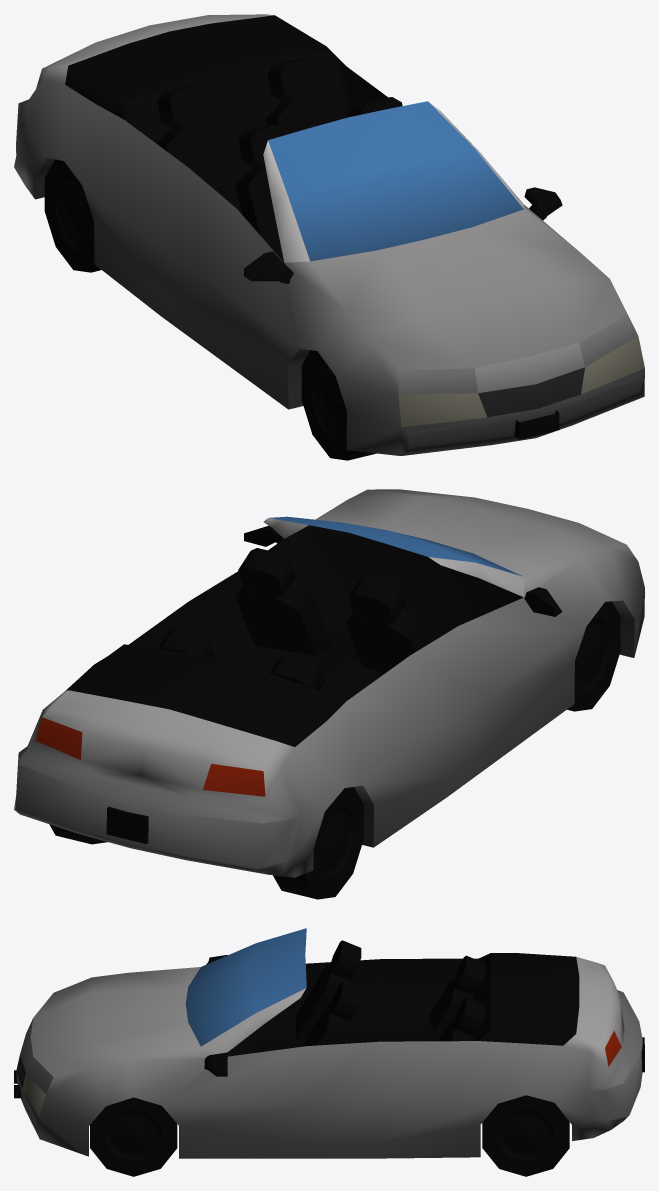
The model's file is vehicles-cars-convertible_v2.glb.
The picture shows the model from 3 angles, top to bottom: view 1: azimuth 30°, elevation 25°; view 2: azimuth 150°, elevation 25°; view 3: azimuth 270°, elevation 25°; orthographic projection. The views are drawn at different scales.
Parts seen in each view (by area): view 1: Convertible_v2.001, Convertible_v2; view 2: Convertible_v2.001, Convertible_v2; view 3: Convertible_v2.001, Convertible_v2.
Part boxes in pixels (box(x1,y1,x2,y2)): Convertible_v2.001: box(14, 14, 644, 460); Convertible_v2: box(55, 101, 584, 439); Convertible_v2.001: box(14, 489, 644, 899); Convertible_v2: box(244, 516, 610, 878); Convertible_v2.001: box(14, 940, 644, 1176); Convertible_v2: box(20, 928, 553, 1161).
Size of the model in its own units: 1.96 by 1.36 by 4.5.
